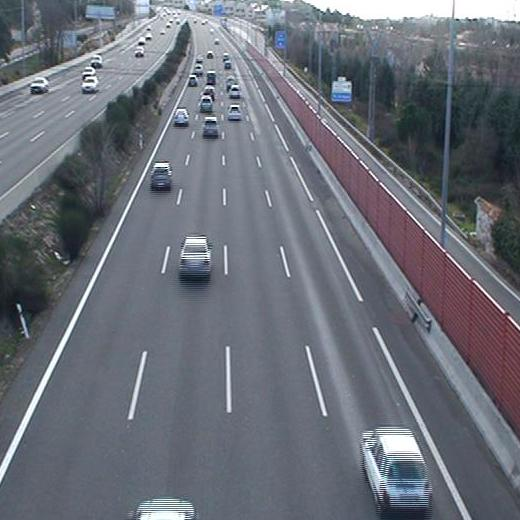car: (359, 427, 432, 511), (179, 235, 213, 277), (150, 164, 174, 192), (171, 108, 189, 128), (202, 117, 218, 137), (226, 105, 244, 119), (200, 96, 213, 111), (228, 86, 239, 99), (188, 77, 197, 88)
van: (206, 72, 217, 85)
